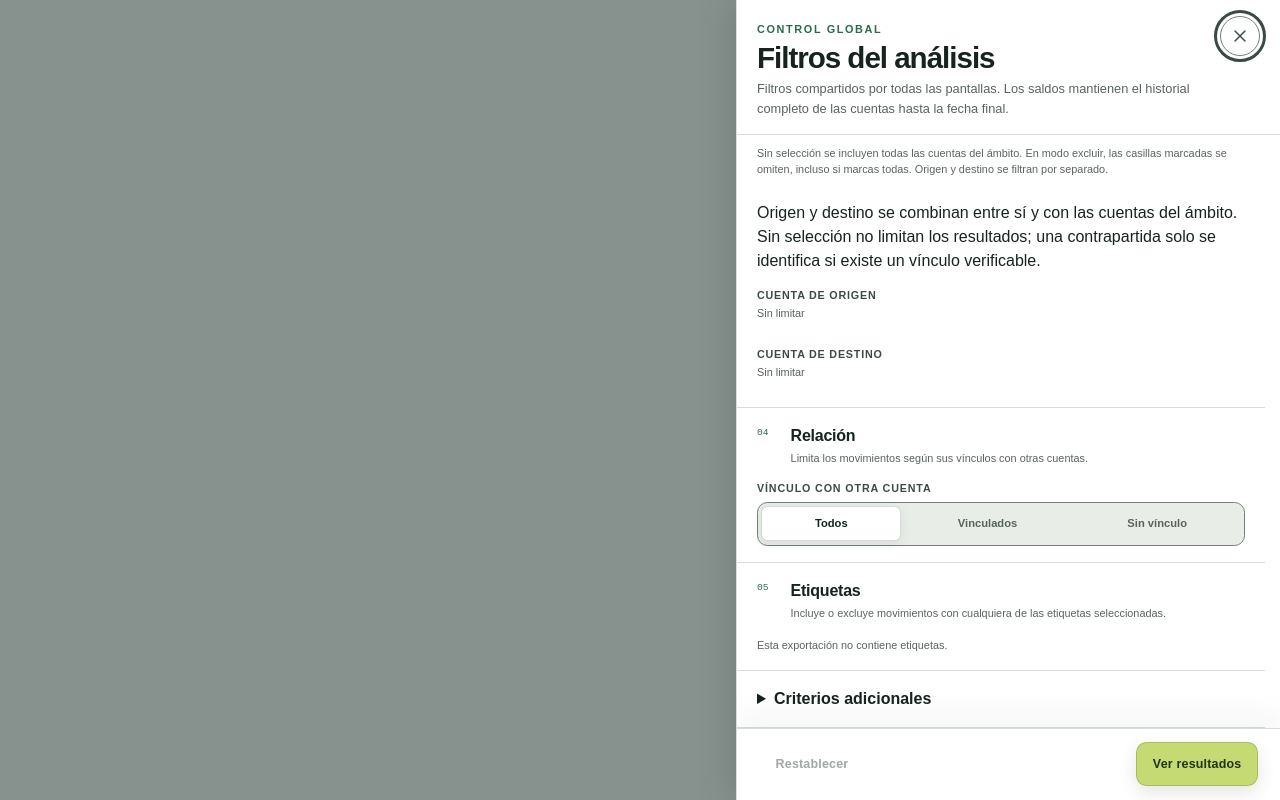
Test: FilterDrawer › explains when neither identity facet has available options
(page scrolled)
Click the heading "Criterios adicionales". click: (853, 698)
box: [774,690,931,707]
(page scrolled)
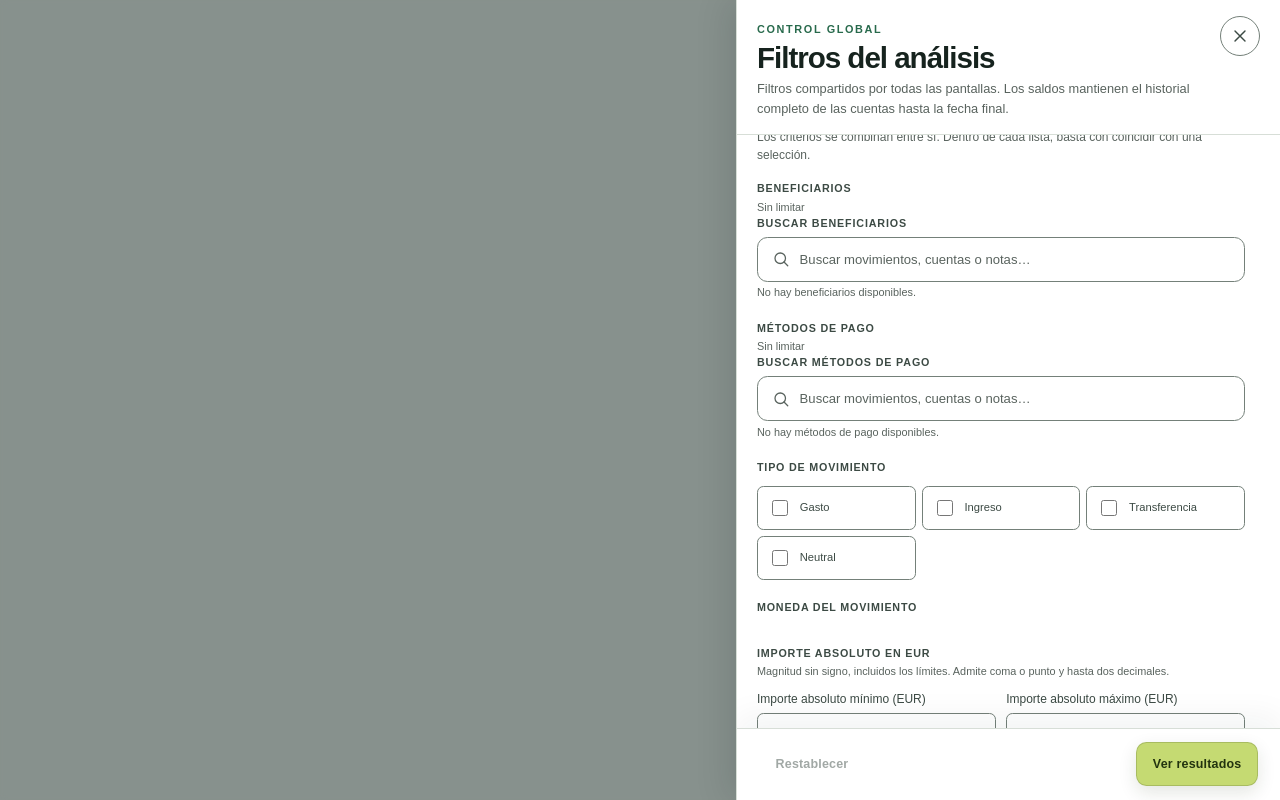
Expected: the text "No hay beneficiarios disponibles." is shown, [757,286,916,298]
Expected: the text "No hay métodos de pago disponibles." is shown, [757,426,939,438]
